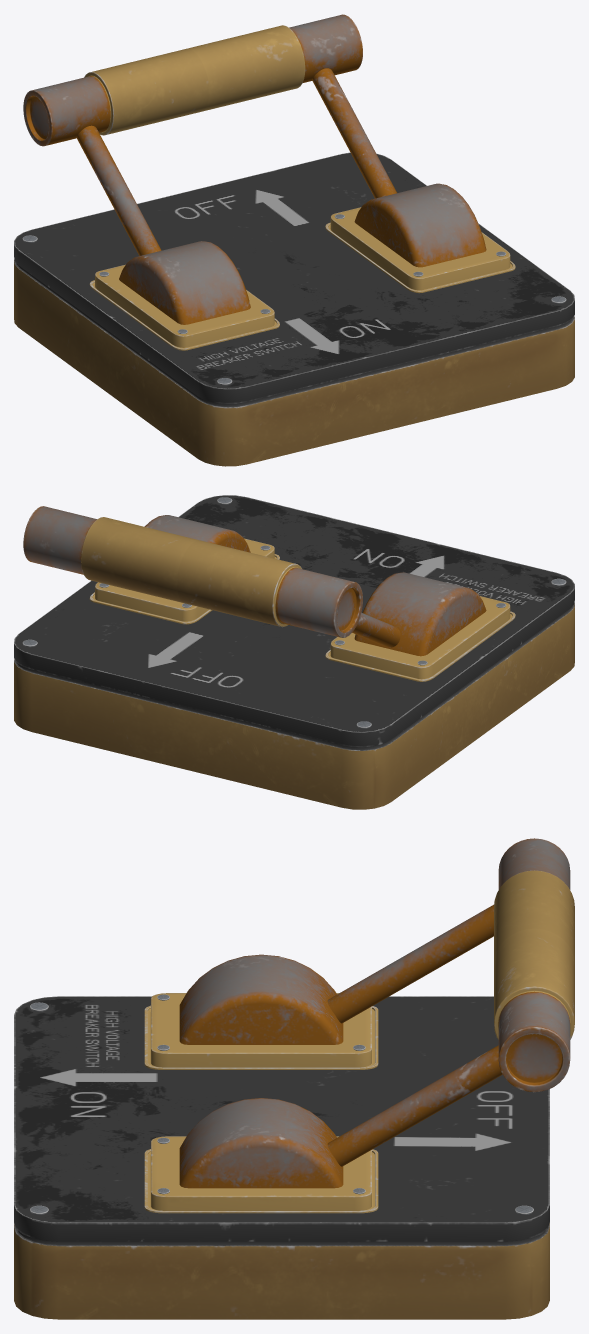
Rendered from HandLeverV2RIGGED.fbx.
The picture shows the model from 3 angles, top to bottom: view 1: azimuth 30°, elevation 25°; view 2: azimuth 150°, elevation 25°; view 3: azimuth 270°, elevation 25°; orthographic projection. The views are drawn at different scales.
Parts seen in each view (by area): view 1: Plane.001, Cylinder.001; view 2: Plane.001, Cylinder.001; view 3: Plane.001, Cylinder.001.
Part boxes in pixels (x1=…): Plane.001: x1=14, y1=152, x2=574, y2=466; Cylinder.001: x1=23, y1=14, x2=486, y2=324; Plane.001: x1=14, y1=495, x2=574, y2=809; Cylinder.001: x1=23, y1=506, x2=486, y2=656; Plane.001: x1=14, y1=993, x2=549, y2=1319; Cylinder.001: x1=179, y1=838, x2=574, y2=1188.
Size of the model in its own units: 200 by 114 by 209.
